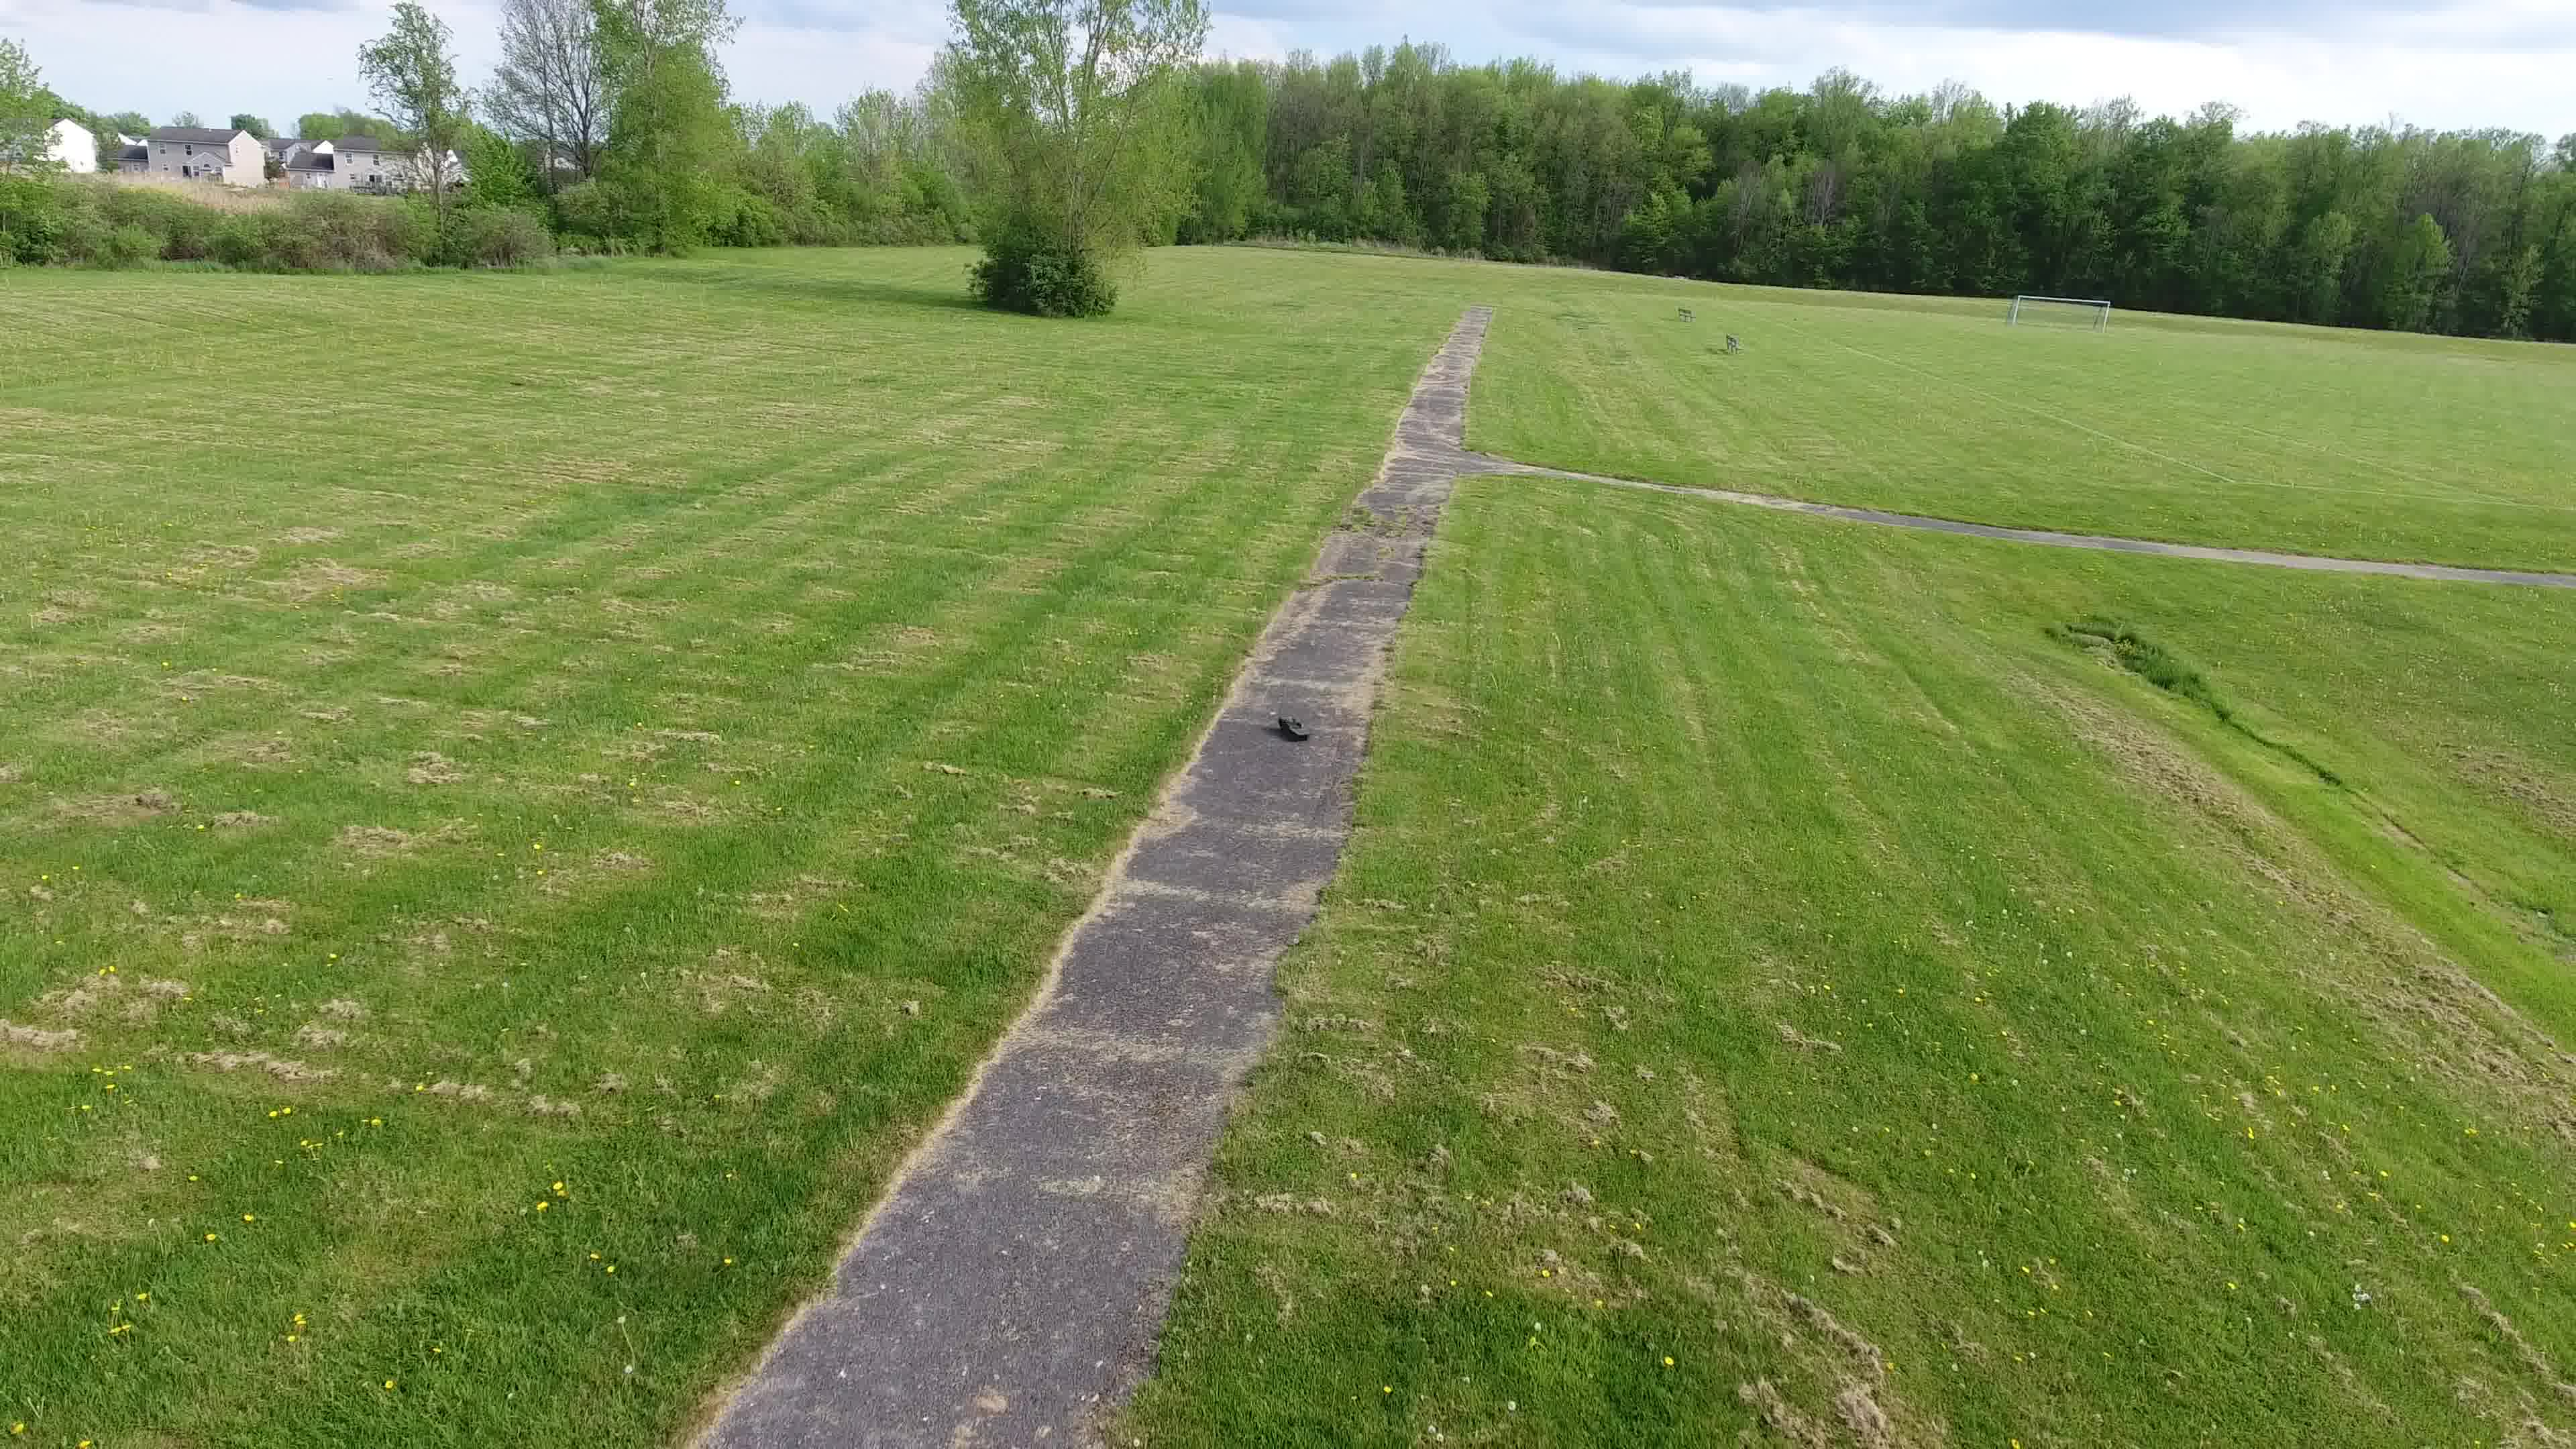transporter9: (1277, 713, 1311, 741)
